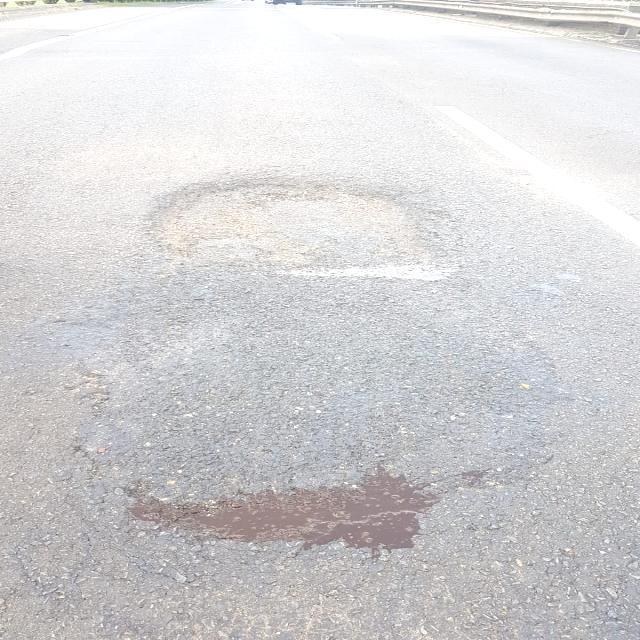Buraco: (139, 173, 450, 285)
